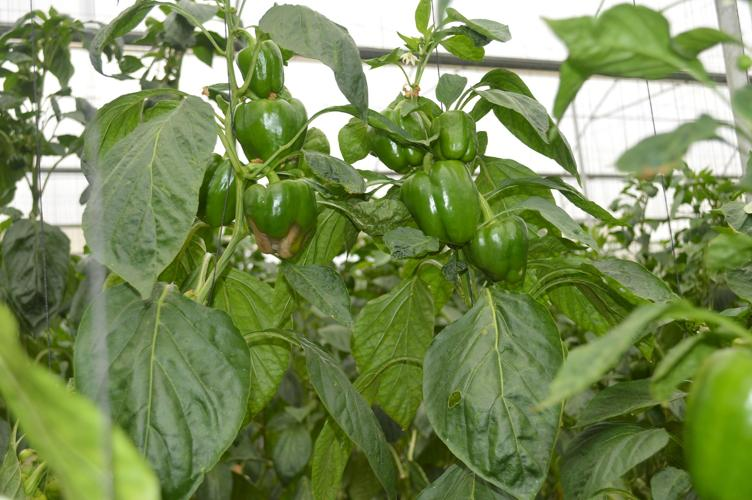BellPepper: (401, 157, 478, 253), (231, 89, 317, 170), (472, 204, 532, 296), (187, 144, 247, 235), (242, 175, 320, 241), (230, 36, 286, 98), (437, 113, 482, 179), (370, 113, 415, 178)
